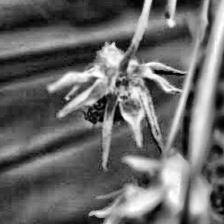Gray Mold: (46, 40, 190, 171)
